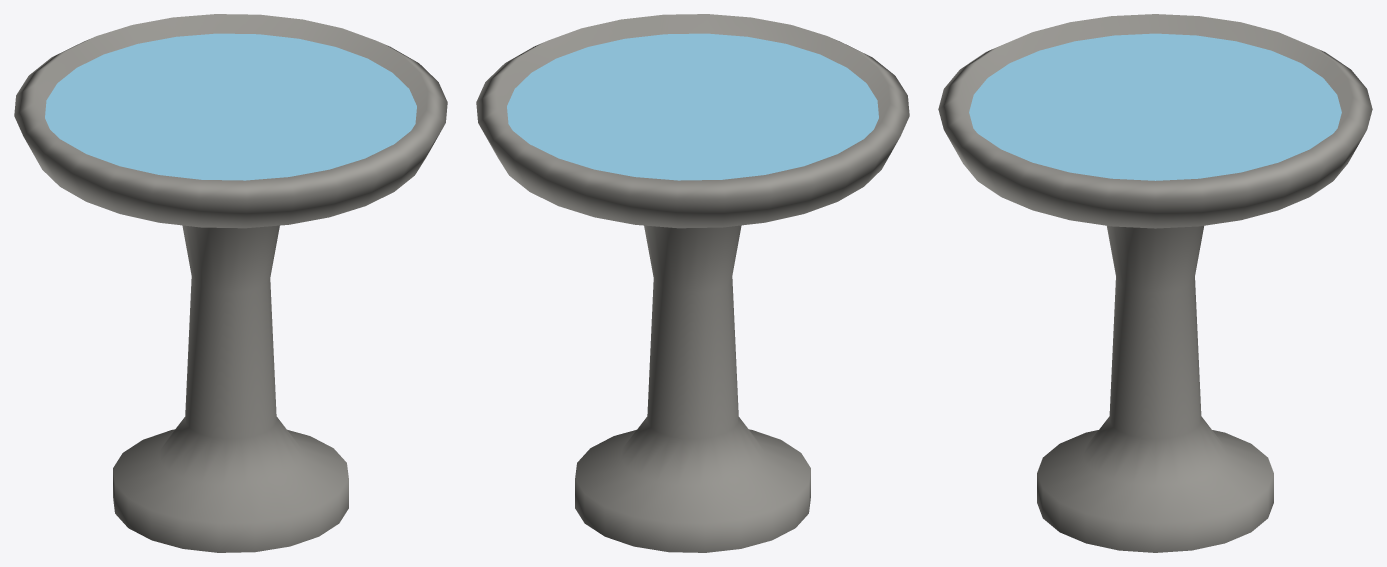
Rendered from furn_disp_birdbath.glb.
The picture shows the model from 3 angles, left to right: view 1: azimuth 30°, elevation 25°; view 2: azimuth 150°, elevation 25°; view 3: azimuth 270°, elevation 25°; orthographic projection.
Visible parts, largest first — view 1: furn_disp_birdbath_main, furn_disp_birdbath_gloss; view 2: furn_disp_birdbath_main, furn_disp_birdbath_gloss; view 3: furn_disp_birdbath_main, furn_disp_birdbath_gloss.
Boxes of the visible parts, bbox=[...] form: furn_disp_birdbath_main: bbox=[14, 14, 447, 552]; furn_disp_birdbath_gloss: bbox=[45, 33, 416, 180]; furn_disp_birdbath_main: bbox=[476, 14, 909, 552]; furn_disp_birdbath_gloss: bbox=[507, 33, 878, 180]; furn_disp_birdbath_main: bbox=[938, 14, 1372, 552]; furn_disp_birdbath_gloss: bbox=[969, 33, 1341, 180].
Bounding box in the file's own units: 0.66 × 0.68 × 0.66.
